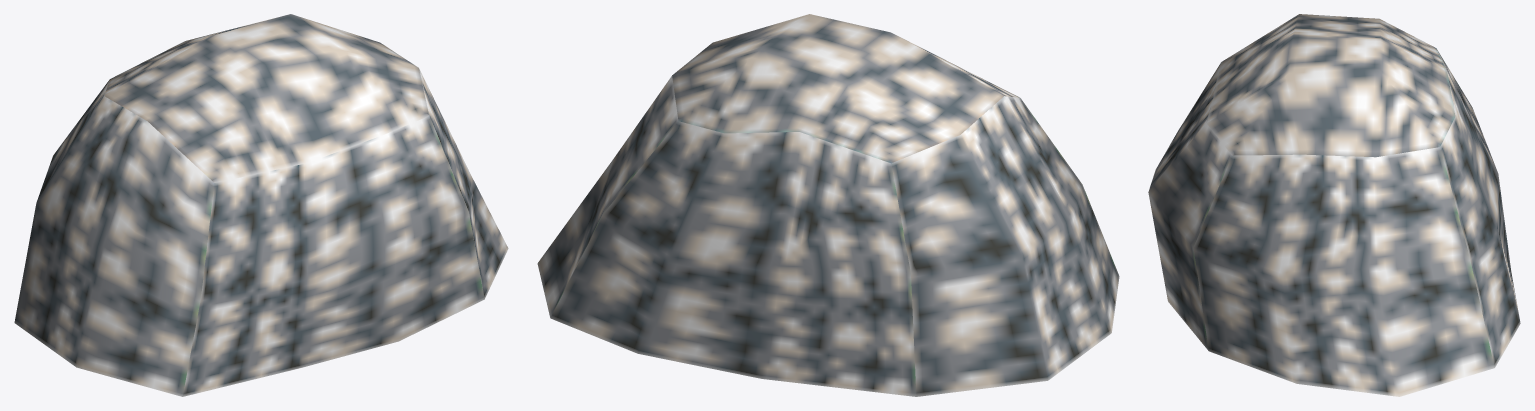
Rendered from small_Rock.fbx.
The picture shows the model from 3 angles, left to right: view 1: azimuth 30°, elevation 25°; view 2: azimuth 150°, elevation 25°; view 3: azimuth 270°, elevation 25°; orthographic projection. The views are drawn at different scales.
Visible parts, largest first — view 1: small_Rock; view 2: small_Rock; view 3: small_Rock.
Boxes of the visible parts, x1,y1,x2,y2 form: small_Rock: (14,14,508,396); small_Rock: (537,14,1119,396); small_Rock: (1148,14,1520,396).
Size of the model in its own units: 1.23 by 0.6074 by 0.8797.
